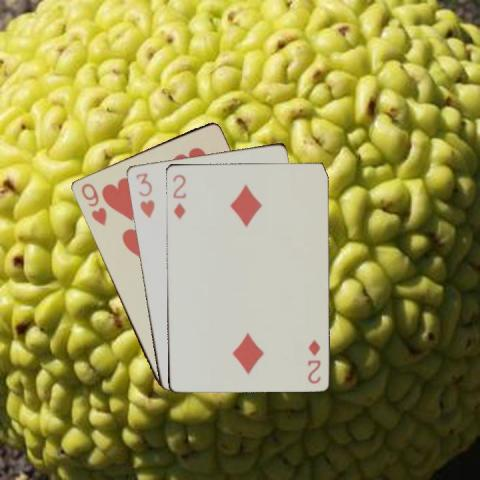2d: (170, 171, 188, 220), (304, 336, 321, 385)
3h: (133, 170, 156, 220)
9h: (77, 180, 108, 227)
